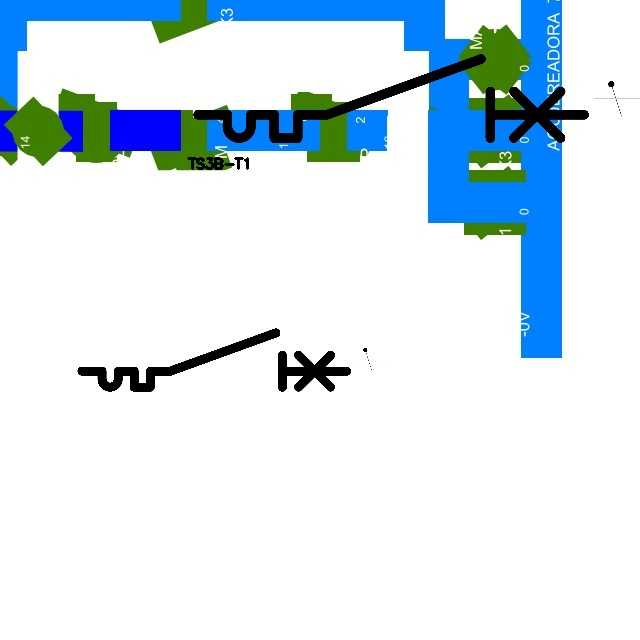interruptor_termomagnetico: (188, 49, 594, 148), (75, 326, 353, 394)
